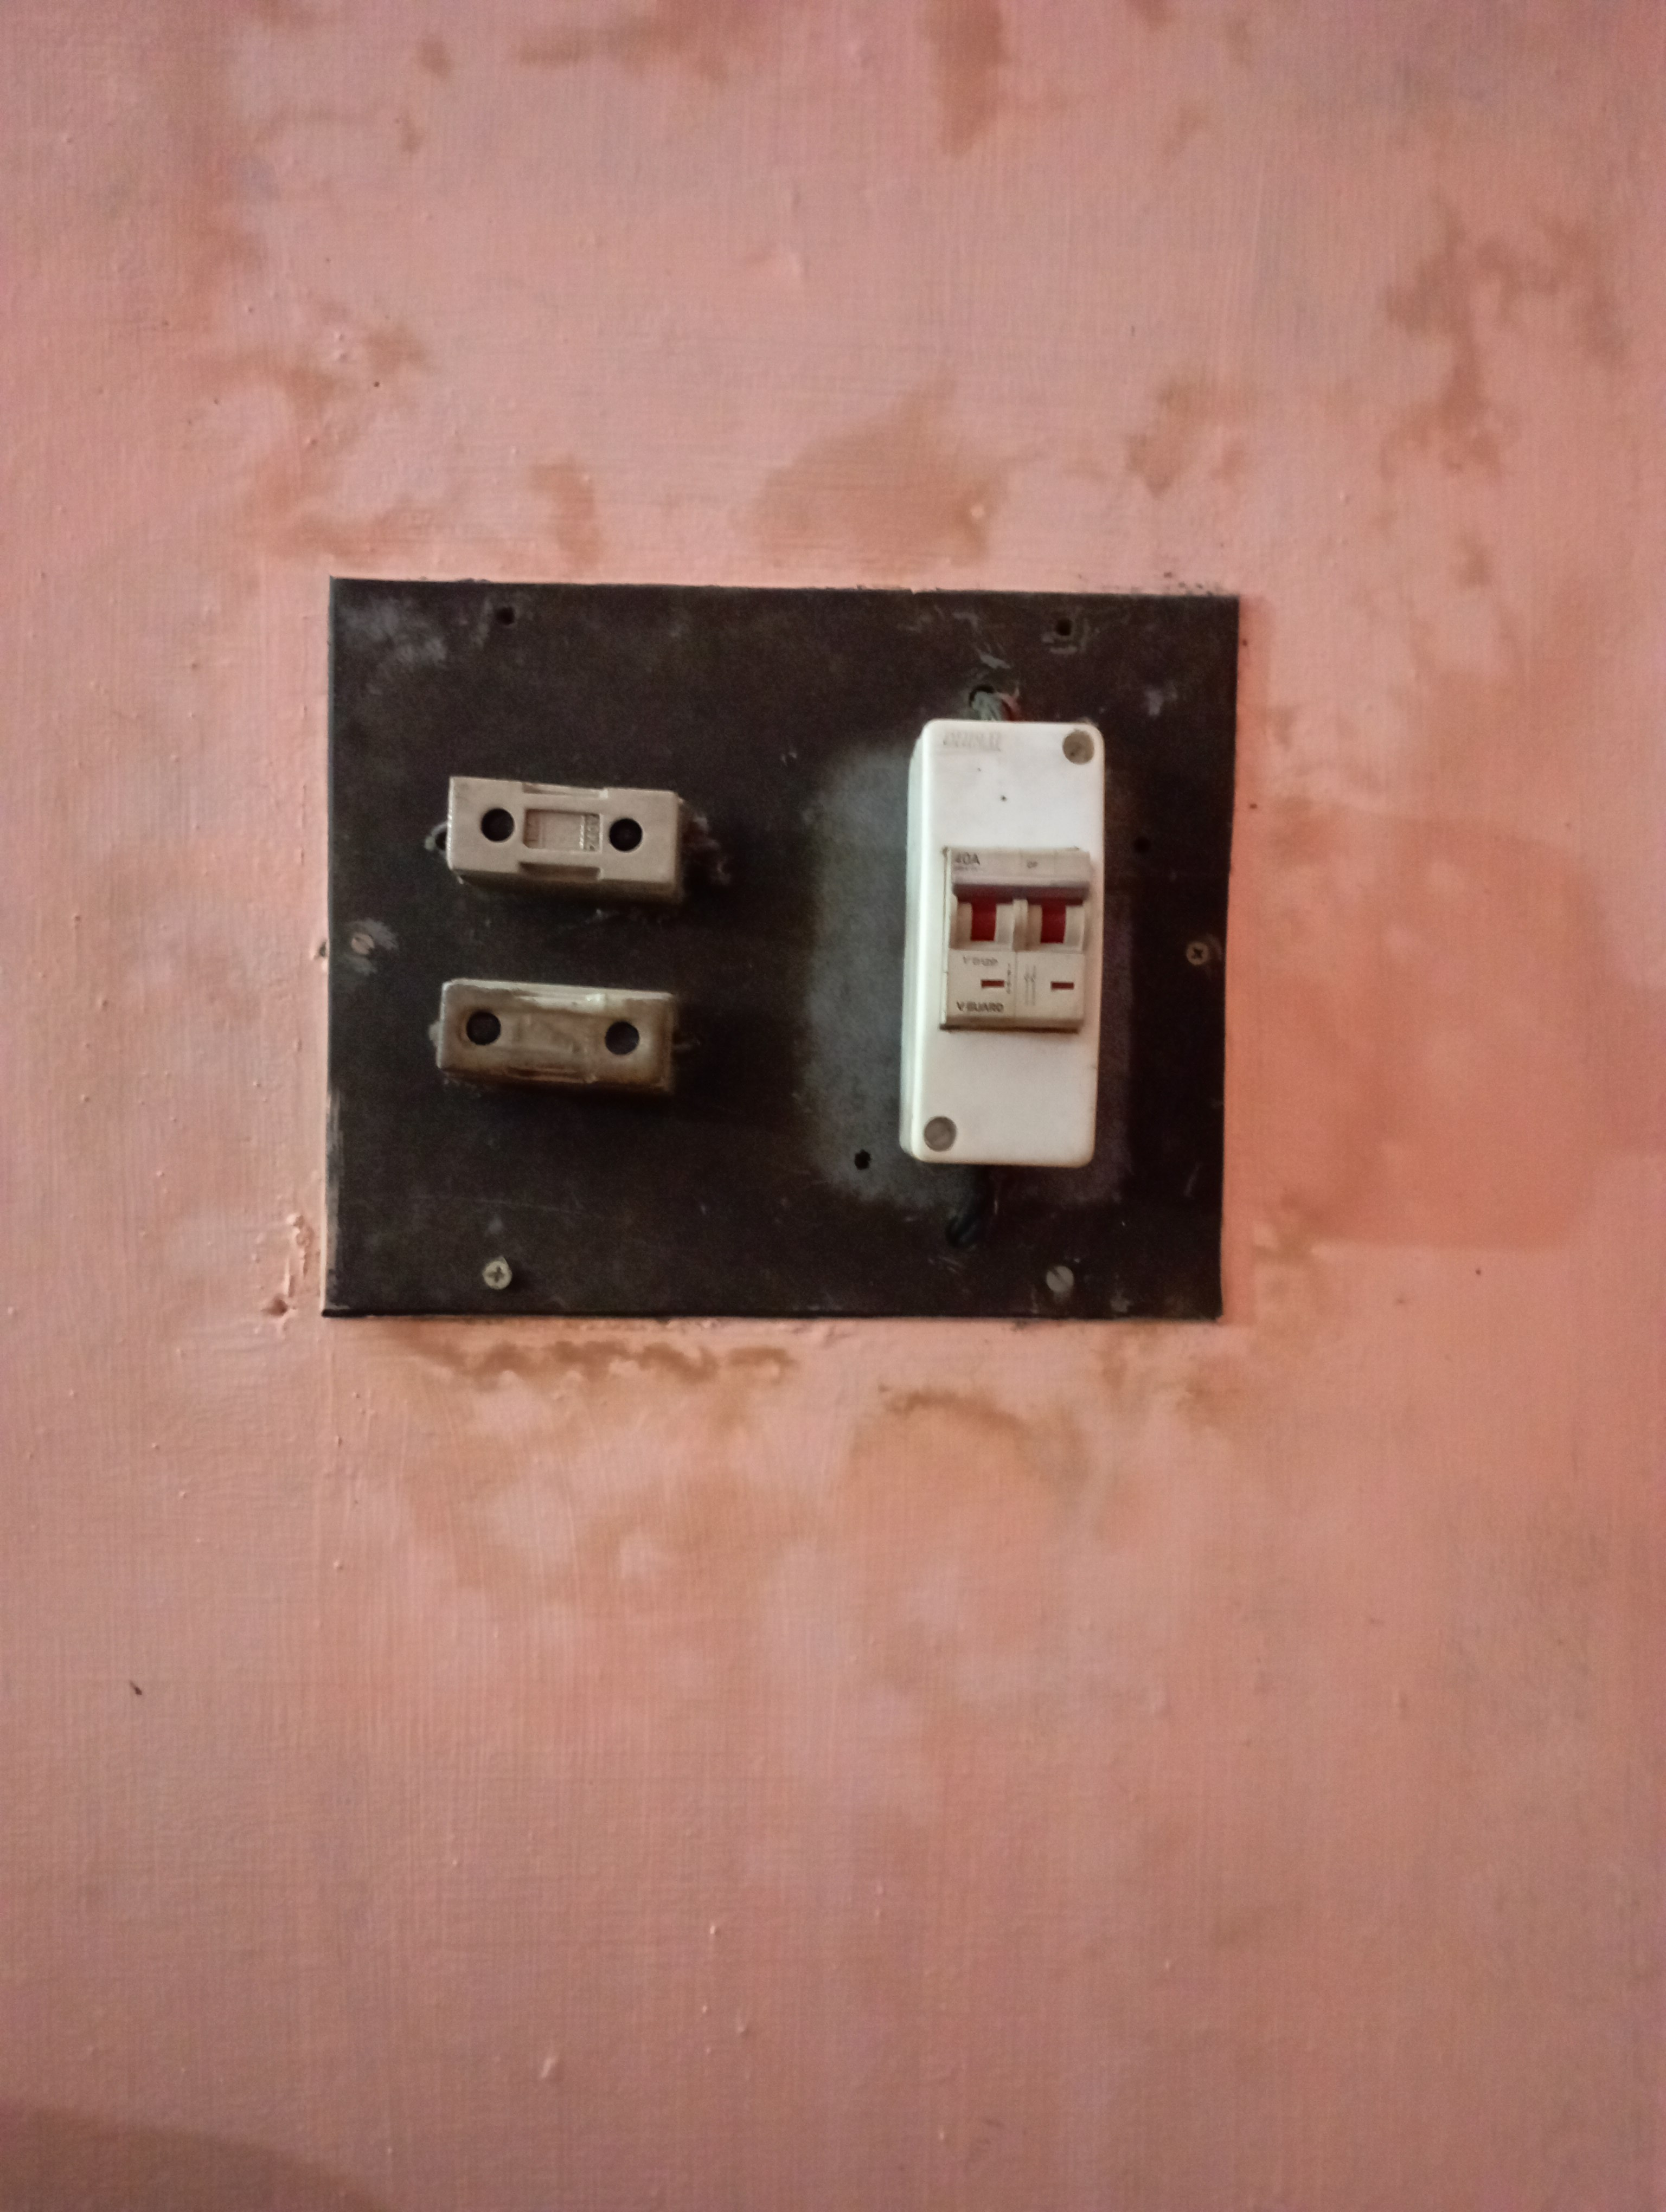ciruit_breaker: (903, 713, 1115, 1180)
fuse: (436, 771, 688, 913), (418, 969, 679, 1098)
